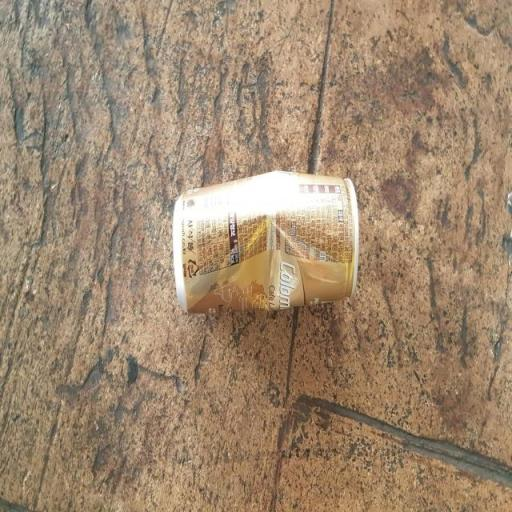metal: (154, 141, 360, 340)
